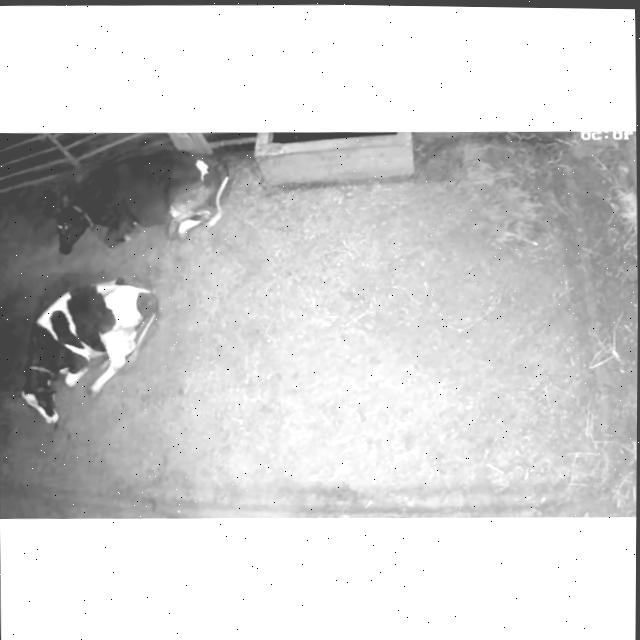lay: (38, 129, 247, 268), (10, 267, 172, 440)
